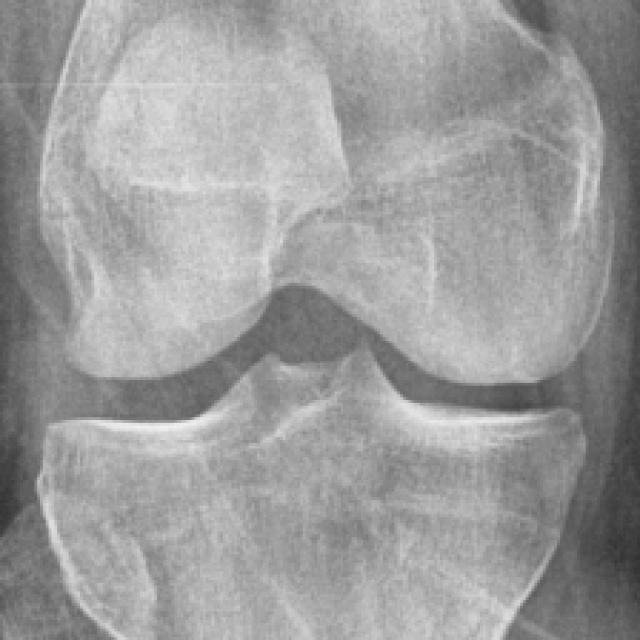femur: (39, 0, 613, 385)
tibia: (36, 349, 586, 640)
